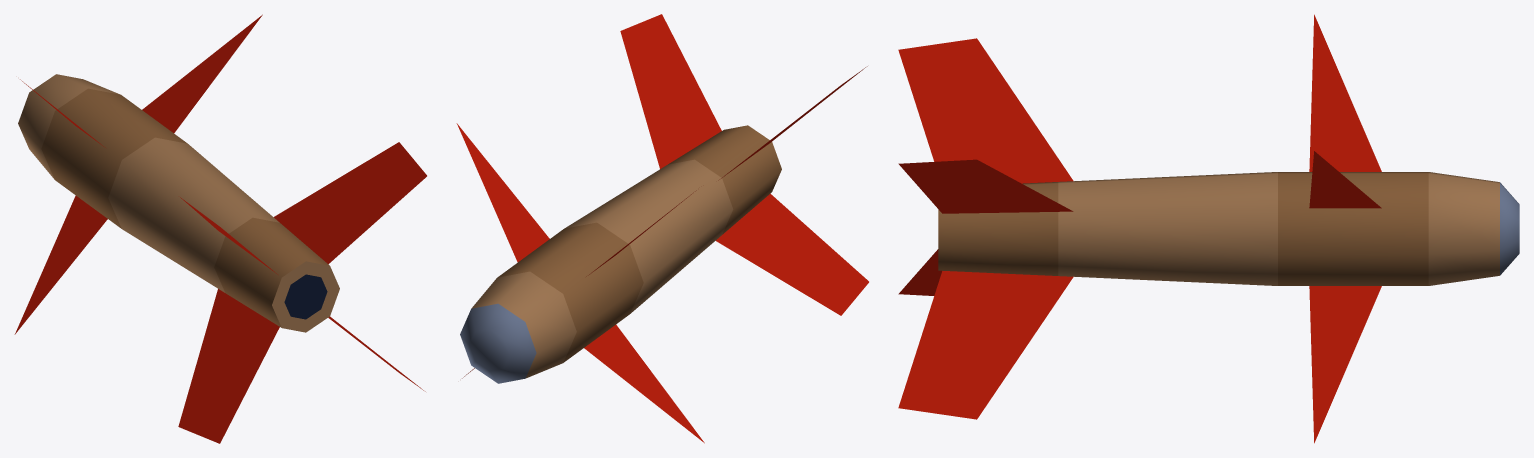
File: rocket2.fbx
3 renders of one model, left to right at view 1: azimuth 30°, elevation 25°; view 2: azimuth 150°, elevation 25°; view 3: azimuth 270°, elevation 25°, orthographic. The views are drawn at different scales.
Parts seen in each view (by area): view 1: pPlane13; view 2: pPlane13; view 3: pPlane13.
Part boxes in pixels (bbox=[...]): pPlane13: bbox=[14, 14, 426, 443]; pPlane13: bbox=[456, 14, 868, 443]; pPlane13: bbox=[898, 14, 1519, 443].
Bounding box in the file's own units: 125 × 125 × 240.
